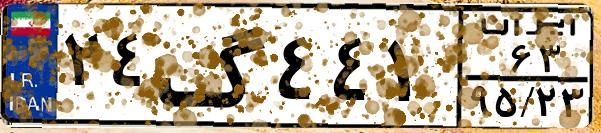1: (385, 28, 445, 110)
2: (57, 26, 110, 100), (535, 70, 560, 125)
3: (560, 70, 590, 125), (537, 27, 568, 80)
4: (270, 28, 330, 110), (330, 28, 385, 110), (110, 28, 156, 98)
5: (495, 70, 520, 125)
6: (508, 27, 537, 80)
9: (470, 70, 495, 125)
گ: (156, 12, 270, 120)
